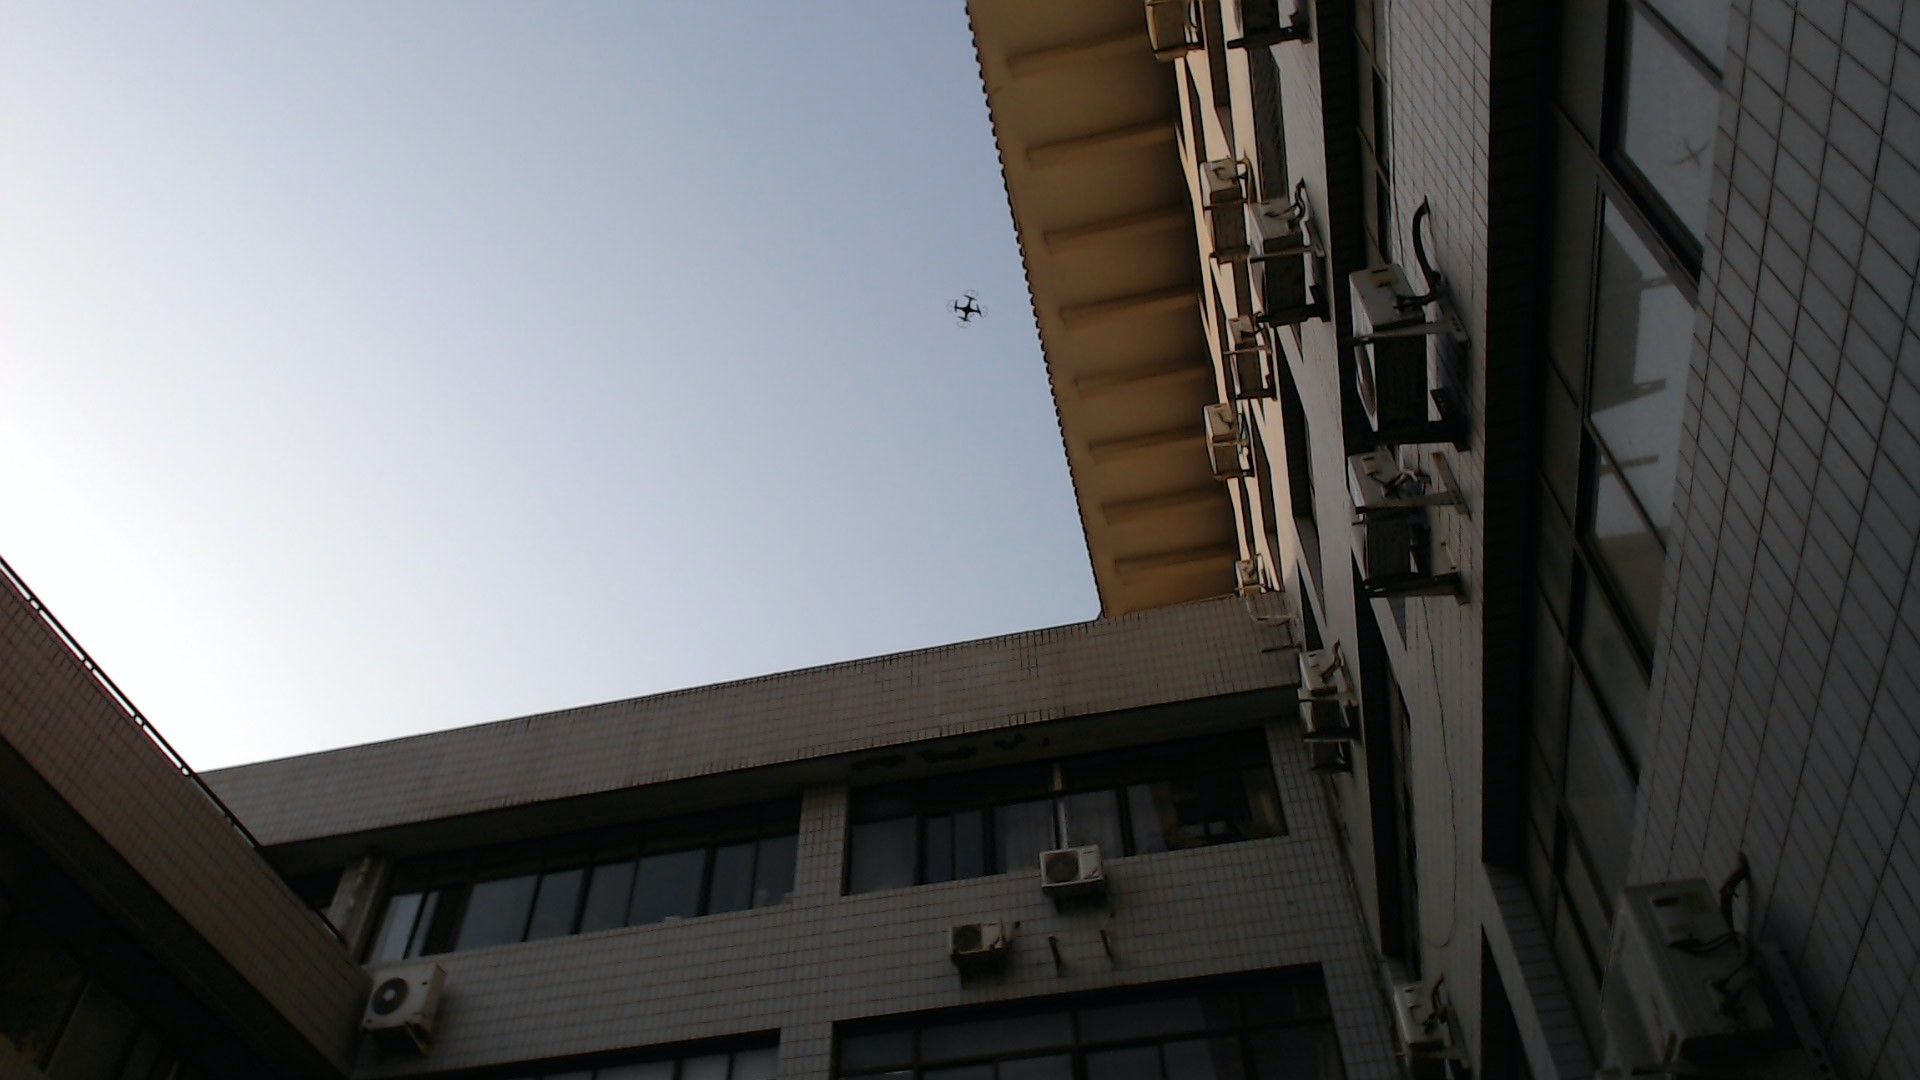drone: (944, 289, 992, 331)
